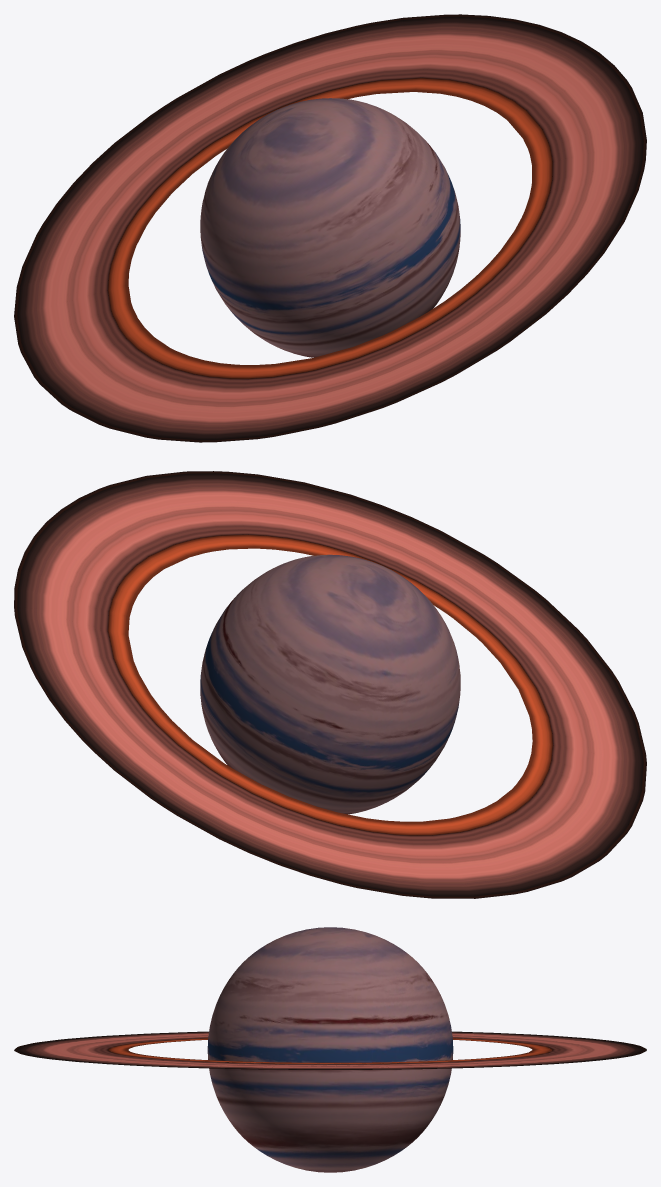
File: gas_giant.glb
3 renders of one model, top to bottom at view 1: azimuth 30°, elevation 25°; view 2: azimuth 150°, elevation 25°; view 3: azimuth 270°, elevation 25°, orthographic. The views are drawn at different scales.
Visible parts, largest first — view 1: gas_giant_rings_mat_0, gas_giant_gas_giant_mat_0; view 2: gas_giant_rings_mat_0, gas_giant_gas_giant_mat_0; view 3: gas_giant_gas_giant_mat_0, gas_giant_rings_mat_0.
Boxes of the visible parts, <box> form: gas_giant_rings_mat_0: <box>14,14,646,442</box>; gas_giant_gas_giant_mat_0: <box>200,98,460,357</box>; gas_giant_rings_mat_0: <box>14,471,646,898</box>; gas_giant_gas_giant_mat_0: <box>200,554,460,814</box>; gas_giant_gas_giant_mat_0: <box>207,927,453,1172</box>; gas_giant_rings_mat_0: <box>14,1031,646,1069</box>.
Bounding box in the file's own units: 24.04 × 10.04 × 25.81.
2 materials, 2 textured.
